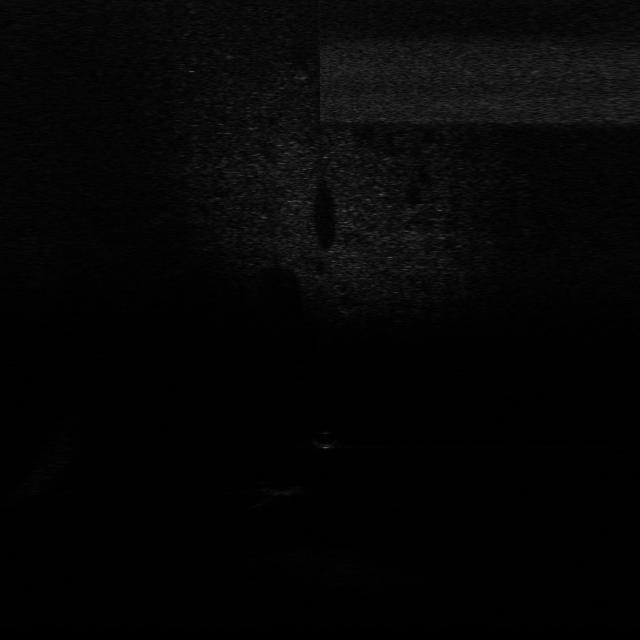ball: (311, 428, 343, 451)
square cage: (259, 482, 312, 501)
